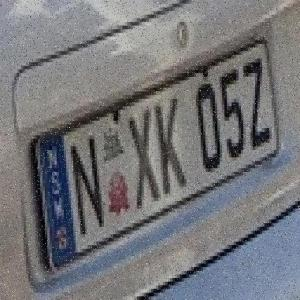Plate: (21, 35, 283, 270)
